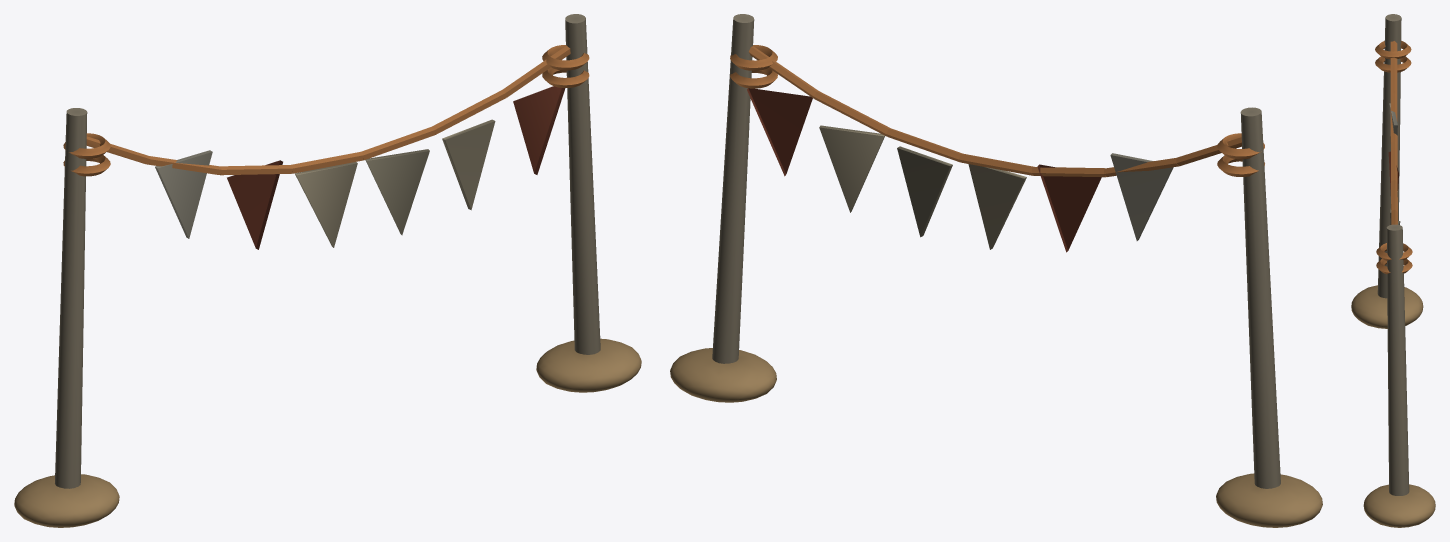
The model's file is keeper_bunting_b.glb.
The picture shows the model from 3 angles, left to right: view 1: azimuth 30°, elevation 25°; view 2: azimuth 150°, elevation 25°; view 3: azimuth 270°, elevation 25°; orthographic projection. The views are drawn at different scales.
Parts seen in each view (by area): view 1: Surface; view 2: Surface; view 3: Surface.
Boxes of the visible parts, box(x1,y1,x2,y2) form: Surface: box(14, 14, 641, 527); Surface: box(670, 14, 1322, 527); Surface: box(1351, 14, 1435, 527).
Bounding box in the file's own units: 4.48 × 2.76 × 0.6818.
